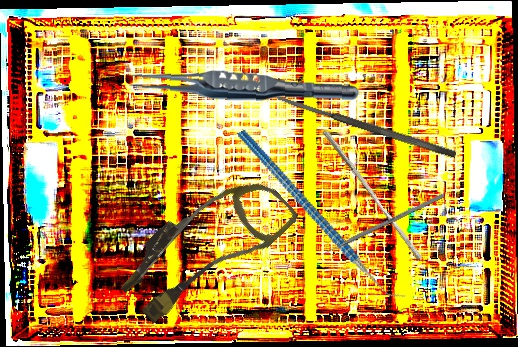Cannula: (109, 153, 301, 340)
Chopper: (236, 96, 408, 333)
Pusher: (316, 128, 428, 262), (313, 192, 445, 261)
Spatula Surgical: (276, 92, 457, 160)
Tissue Forceps: (124, 66, 360, 106)
